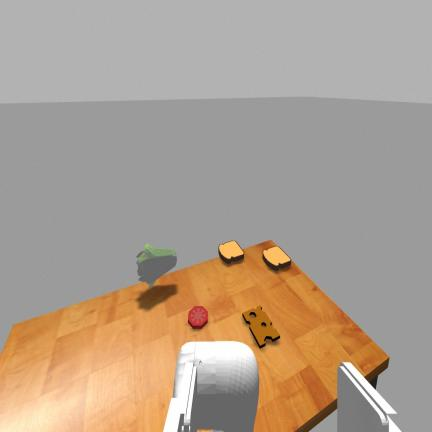cheese: (243, 305, 280, 348)
lettuce: (137, 244, 177, 288)
sliced_bread: (263, 246, 291, 270), (219, 241, 244, 263)
sliced_tomato: (188, 306, 208, 328)
